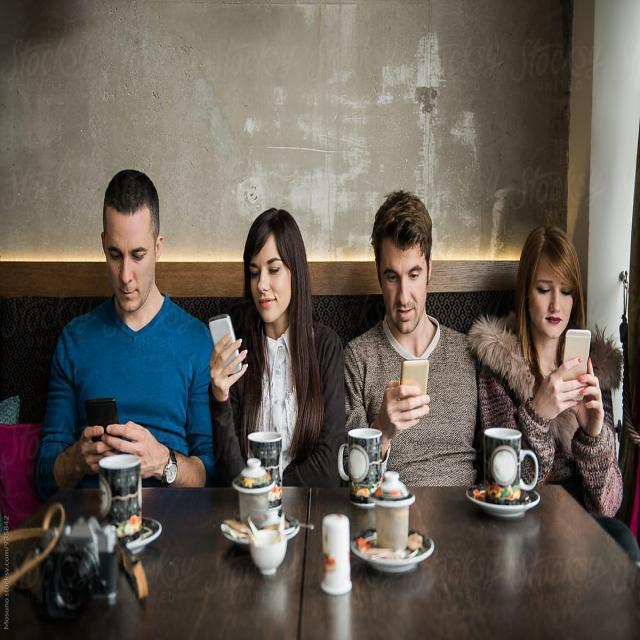cellphone: (80, 397, 142, 468), (207, 315, 243, 404), (558, 328, 596, 400), (401, 359, 430, 394)
